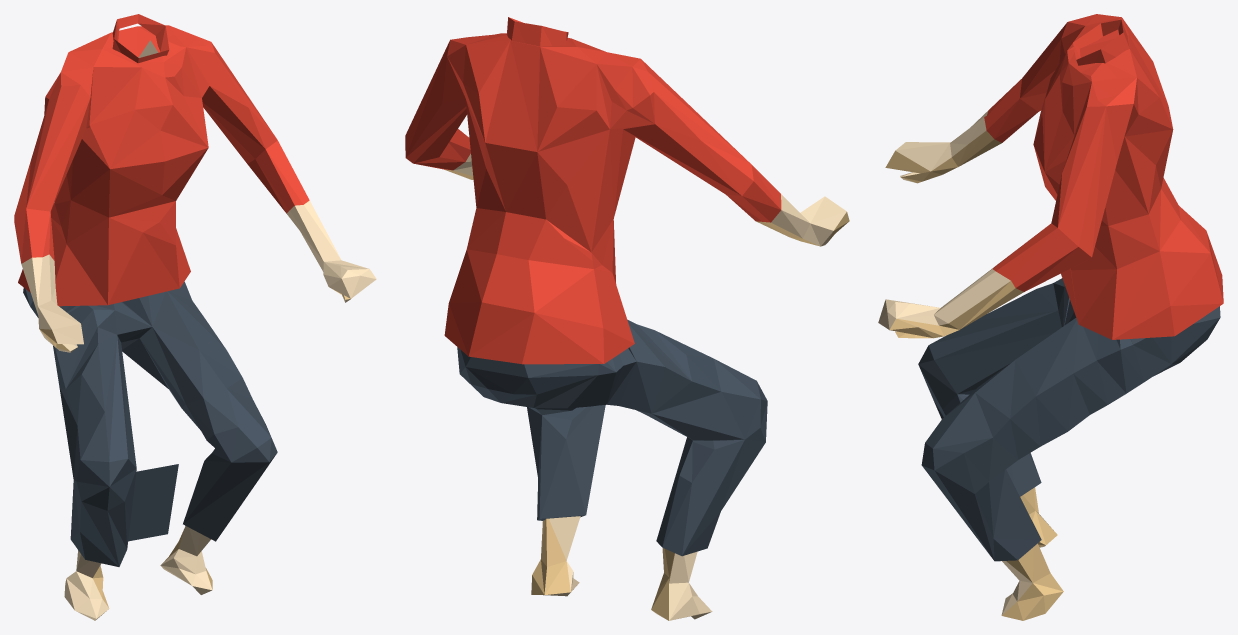
Rendered from human-rider.glb.
3 views of the same model, side by side, from view 1: azimuth 30°, elevation 25°; view 2: azimuth 150°, elevation 25°; view 3: azimuth 270°, elevation 25° (orthographic). The views are drawn at different scales.
Bounding box in the file's own units: 0.8927 × 1.46 × 0.7874.
